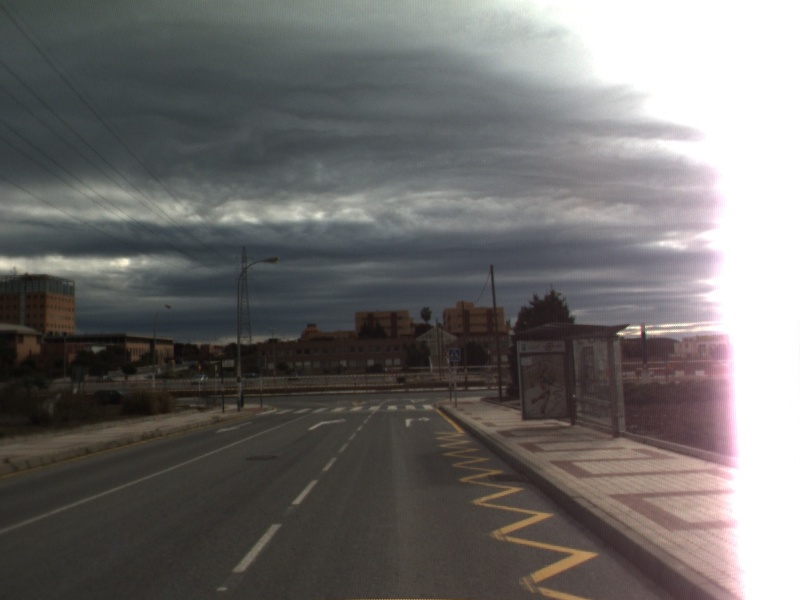RIGHT: (306, 416, 348, 432), (403, 414, 433, 429)
